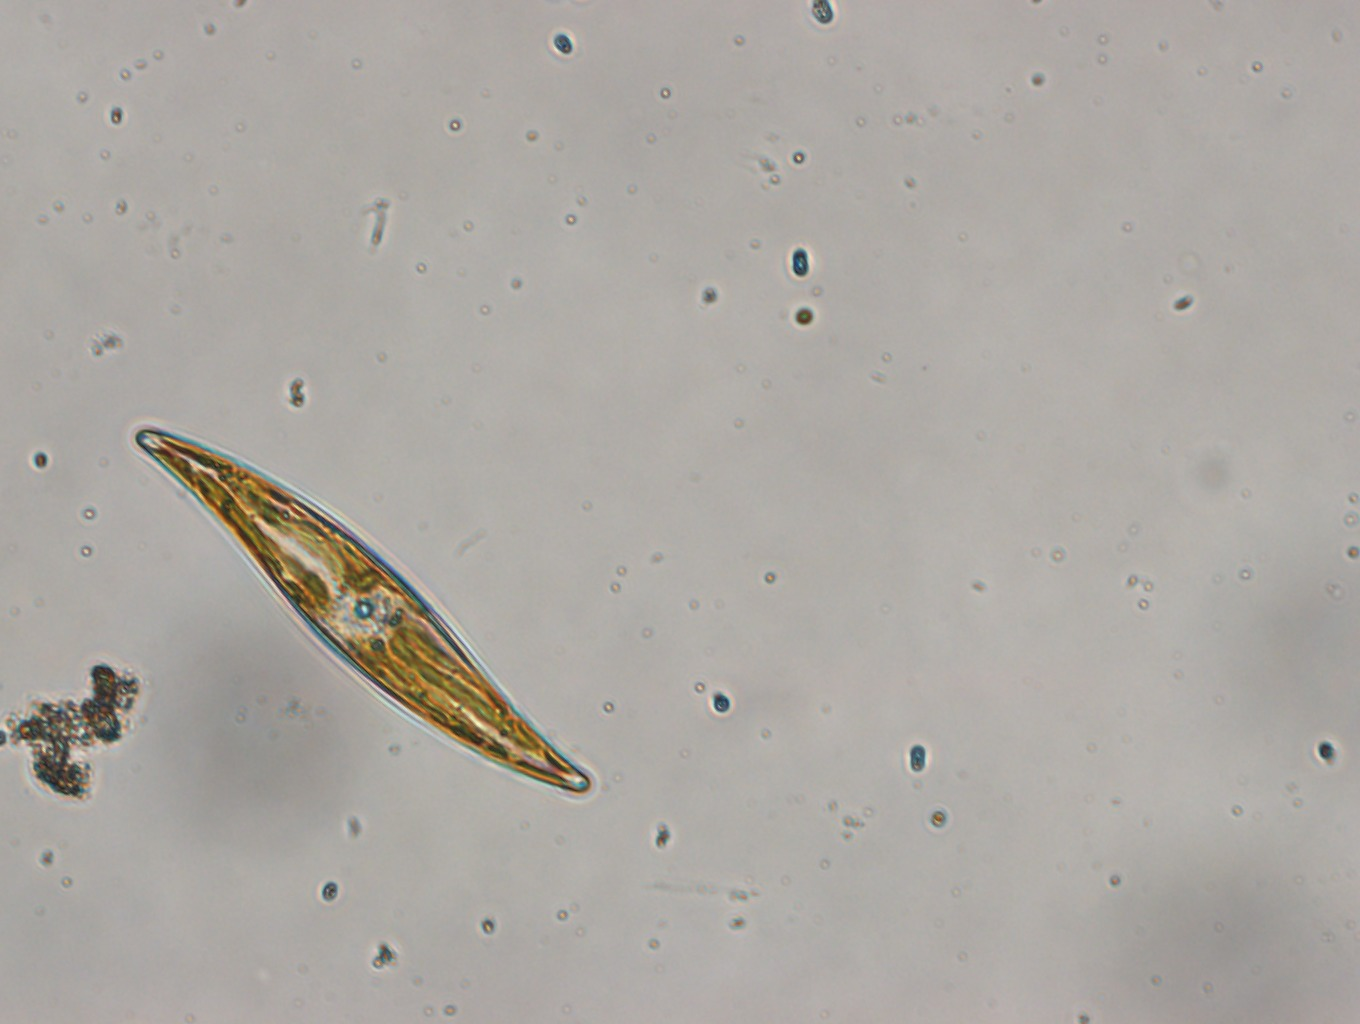pleurosigma pelagicum: (132, 426, 591, 794)
